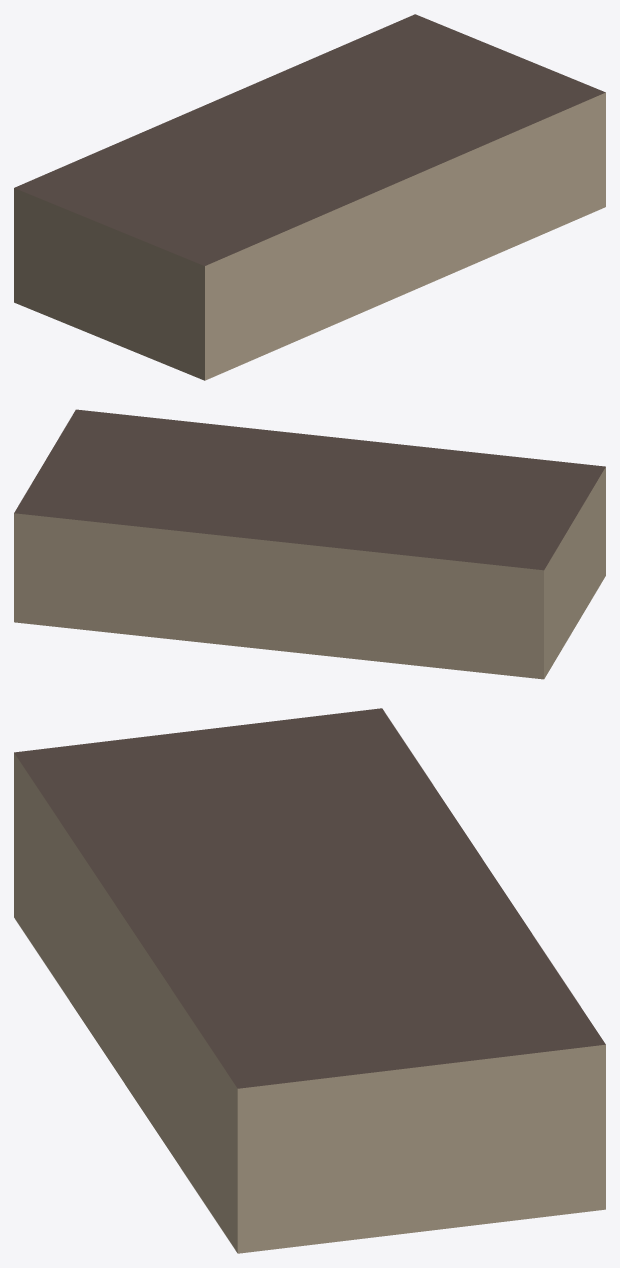
3 renders of one model, top to bottom at view 1: azimuth 30°, elevation 25°; view 2: azimuth 150°, elevation 25°; view 3: azimuth 270°, elevation 25°, orthographic. The views are drawn at different scales.
Visible parts, largest first — view 1: HP-w745254447; view 2: HP-w745254447; view 3: HP-w745254447.
Boxes of the visible parts, x1,y1,x2,y2 form: HP-w745254447: [14, 14, 605, 380]; HP-w745254447: [14, 409, 605, 679]; HP-w745254447: [14, 708, 605, 1253].
Bounding box in the file's own units: 44.53 × 9 × 29.27.
